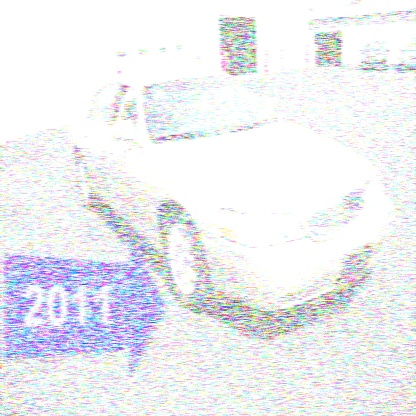Vehicle: (66, 47, 400, 341)
